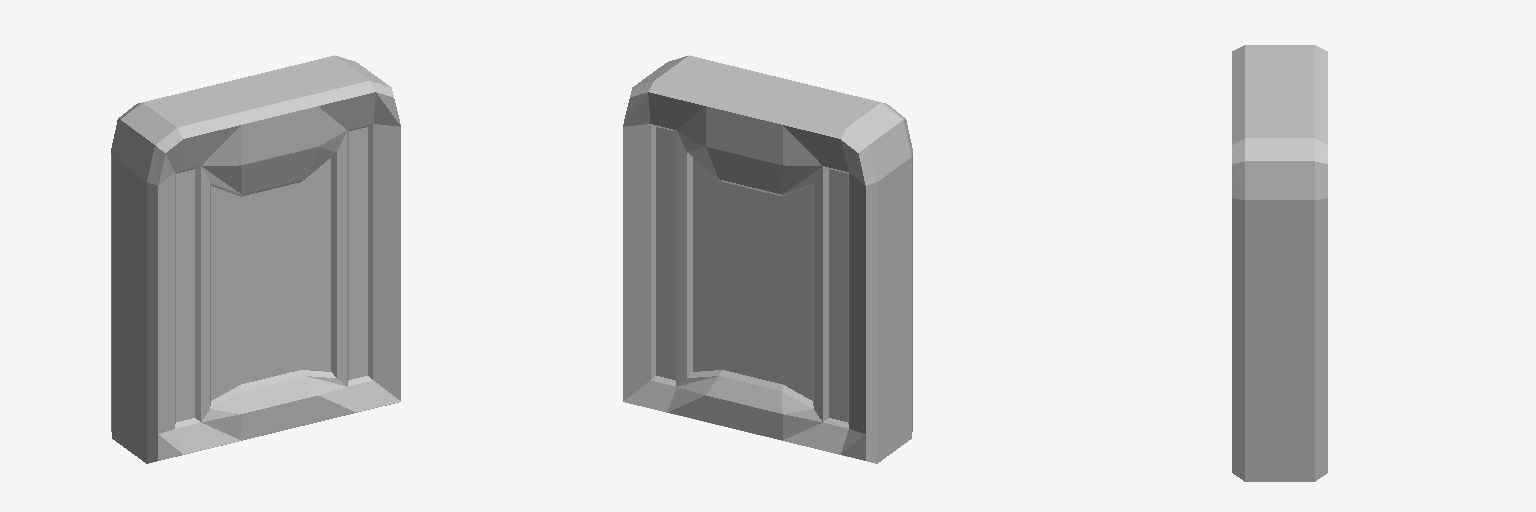
The model's file is doorHub.obj.
The picture shows the model from 3 angles: view 1: azimuth 30°, elevation 25°; view 2: azimuth 150°, elevation 25°; view 3: azimuth 270°, elevation 25°; orthographic projection.
Visible parts, largest first — view 1: door metalDoor Hub; view 2: door metalDoor Hub; view 3: door metalDoor Hub.
Part boxes in pixels (bbox=[...]): door metalDoor Hub: bbox=[111, 55, 400, 463]; door metalDoor Hub: bbox=[623, 55, 912, 463]; door metalDoor Hub: bbox=[1232, 45, 1327, 481].
Bounding box in the file's own units: 9.82 × 12.2 × 3.2.